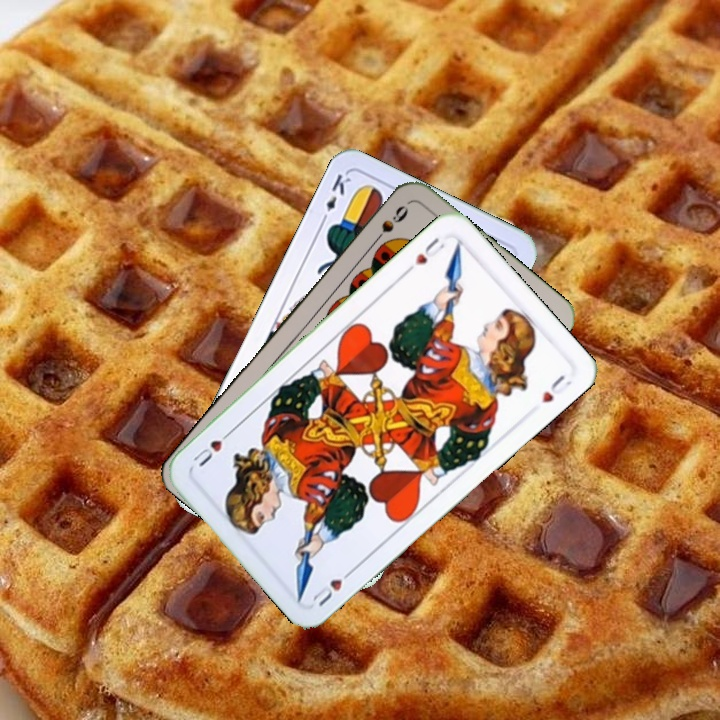EK: (316, 169, 354, 226)
HU: (308, 564, 357, 609), (401, 233, 448, 276)
S9: (367, 201, 411, 249)
